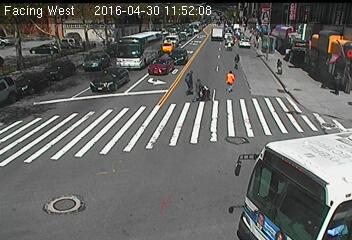neg: (40, 101, 69, 140), (322, 200, 349, 237), (221, 148, 248, 183), (221, 198, 238, 221), (320, 76, 334, 94), (302, 46, 315, 63), (27, 49, 40, 66), (137, 32, 149, 48), (201, 30, 213, 46), (176, 32, 187, 47), (88, 65, 99, 79)
pos: (179, 68, 200, 95), (191, 76, 211, 104), (220, 68, 239, 93), (229, 51, 245, 73), (275, 57, 289, 75), (248, 30, 256, 41)
